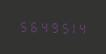five: (17, 18, 26, 33), (57, 20, 66, 34)
four: (77, 20, 86, 35), (37, 19, 46, 33)
nine: (47, 19, 56, 34)
one: (67, 20, 76, 34)
six: (27, 19, 36, 33)
